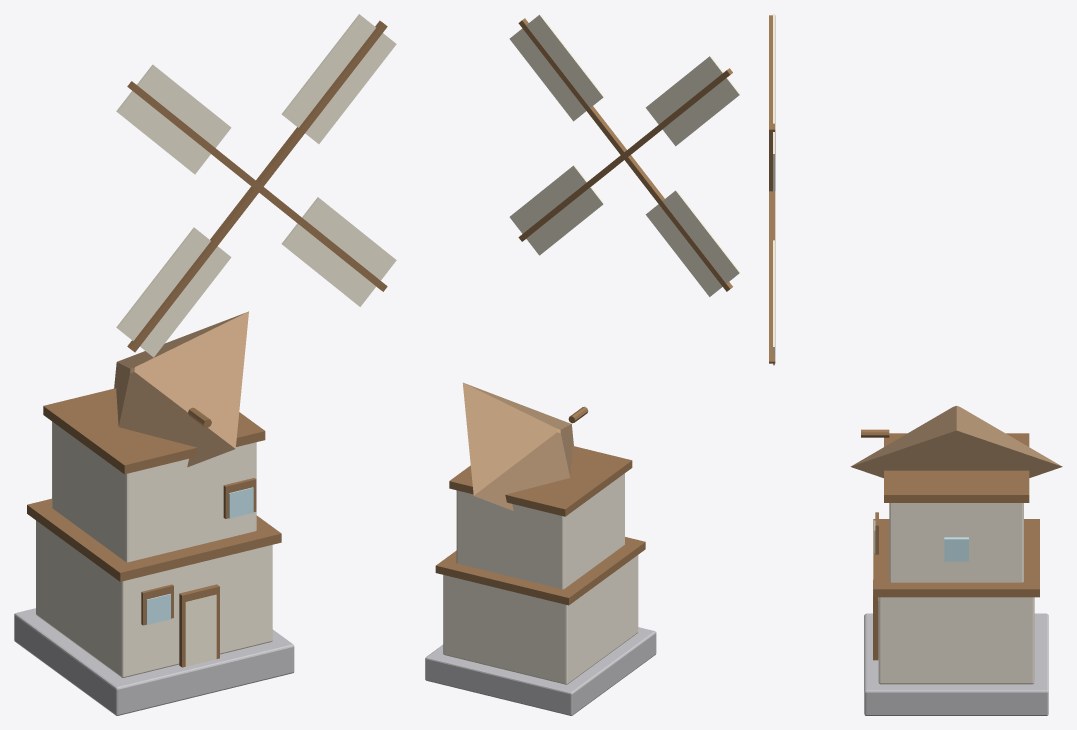
The model's file is ASTX_BUILDING_WINDMILL.glb.
The picture shows the model from 3 angles, left to right: view 1: azimuth 30°, elevation 25°; view 2: azimuth 150°, elevation 25°; view 3: azimuth 270°, elevation 25°; orthographic projection. The views are drawn at different scales.
Visible parts, largest first — view 1: ASTX_BUILDING_WINDMILL_shaftLo, ASTX_BUILDING_WINDMILL_shaftHi, ASTX_BUILDING_WINDMILL_cap, ASTX_BUILDING_WINDMILL_base, ASTX_BUILDING_WINDMILL_trimHi, ASTX_BUILDING_WINDMILL_sail1, ASTX_BUILDING_WINDMILL_sail3, ASTX_BUILDING_WINDMILL_trimLo, ASTX_BUILDING_WINDMILL_sail0, ASTX_BUILDING_WINDMILL_sail2, ASTX_BUILDING_WINDMILL_doorIn, ASTX_BUILDING_WINDMILL_spar0 (+6 smaller); view 2: ASTX_BUILDING_WINDMILL_shaftLo, ASTX_BUILDING_WINDMILL_shaftHi, ASTX_BUILDING_WINDMILL_cap, ASTX_BUILDING_WINDMILL_base, ASTX_BUILDING_WINDMILL_trimHi, ASTX_BUILDING_WINDMILL_sail2, ASTX_BUILDING_WINDMILL_sail0, ASTX_BUILDING_WINDMILL_sail3, ASTX_BUILDING_WINDMILL_sail1, ASTX_BUILDING_WINDMILL_trimLo, ASTX_BUILDING_WINDMILL_spar0, ASTX_BUILDING_WINDMILL_spar2 (+2 smaller); view 3: ASTX_BUILDING_WINDMILL_shaftLo, ASTX_BUILDING_WINDMILL_shaftHi, ASTX_BUILDING_WINDMILL_base, ASTX_BUILDING_WINDMILL_cap, ASTX_BUILDING_WINDMILL_trimHi, ASTX_BUILDING_WINDMILL_trimLo, ASTX_BUILDING_WINDMILL_spar3, ASTX_BUILDING_WINDMILL_winS, ASTX_BUILDING_WINDMILL_spar1.
Part boxes in pixels (<box>): ASTX_BUILDING_WINDMILL_shaftLo: <box>36,520,272,677</box>; ASTX_BUILDING_WINDMILL_shaftHi: <box>52,421,256,562</box>; ASTX_BUILDING_WINDMILL_cap: <box>114,311,248,467</box>; ASTX_BUILDING_WINDMILL_base: <box>14,608,294,715</box>; ASTX_BUILDING_WINDMILL_trimHi: <box>43,388,265,474</box>; ASTX_BUILDING_WINDMILL_sail1: <box>116,64,231,174</box>; ASTX_BUILDING_WINDMILL_sail3: <box>281,197,396,306</box>; ASTX_BUILDING_WINDMILL_trimLo: <box>27,498,281,581</box>; ASTX_BUILDING_WINDMILL_sail0: <box>281,14,396,143</box>; ASTX_BUILDING_WINDMILL_sail2: <box>116,227,231,357</box>; ASTX_BUILDING_WINDMILL_doorIn: <box>185,594,216,666</box>; ASTX_BUILDING_WINDMILL_spar0: <box>256,20,387,189</box>; ASTX_BUILDING_WINDMILL_shaftLo: <box>443,555,638,684</box>; ASTX_BUILDING_WINDMILL_shaftHi: <box>456,473,624,589</box>; ASTX_BUILDING_WINDMILL_cap: <box>462,382,573,510</box>; ASTX_BUILDING_WINDMILL_base: <box>425,627,656,715</box>; ASTX_BUILDING_WINDMILL_trimHi: <box>449,445,632,516</box>; ASTX_BUILDING_WINDMILL_sail2: <box>645,190,740,296</box>; ASTX_BUILDING_WINDMILL_sail0: <box>509,14,604,121</box>; ASTX_BUILDING_WINDMILL_sail3: <box>509,165,604,255</box>; ASTX_BUILDING_WINDMILL_sail1: <box>645,55,740,146</box>; ASTX_BUILDING_WINDMILL_trimLo: <box>435,537,645,605</box>; ASTX_BUILDING_WINDMILL_spar0: <box>518,18,626,157</box>; ASTX_BUILDING_WINDMILL_spar2: <box>622,155,732,291</box>; ASTX_BUILDING_WINDMILL_shaftLo: <box>878,597,1034,684</box>; ASTX_BUILDING_WINDMILL_shaftHi: <box>889,503,1023,582</box>; ASTX_BUILDING_WINDMILL_base: <box>864,613,1048,715</box>; ASTX_BUILDING_WINDMILL_cap: <box>850,405,1062,478</box>; ASTX_BUILDING_WINDMILL_trimHi: <box>884,433,1029,502</box>; ASTX_BUILDING_WINDMILL_trimLo: <box>873,519,1039,597</box>; ASTX_BUILDING_WINDMILL_spar3: <box>769,191,775,363</box>; ASTX_BUILDING_WINDMILL_winS: <box>944,537,968,561</box>; ASTX_BUILDING_WINDMILL_spar1: <box>769,15,775,123</box>.
Bounding box in the file's own units: 8.13 × 19.27 × 8.29.
